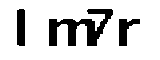7: (95, 6, 114, 41)
l: (13, 5, 35, 49)
m: (44, 18, 98, 48)
r: (116, 17, 146, 52)
